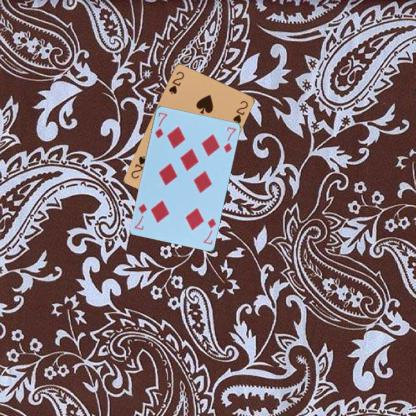2s: (166, 69, 185, 95)
7d: (200, 216, 218, 245), (152, 109, 169, 139)
